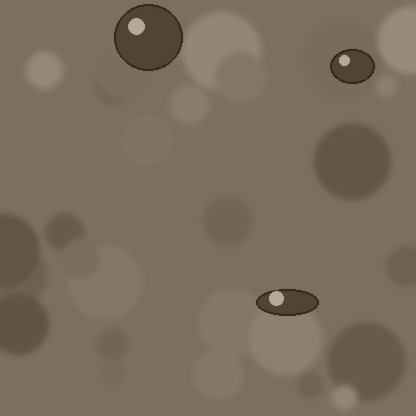gota: (114, 6, 182, 76), (256, 290, 318, 318), (330, 50, 374, 86)
